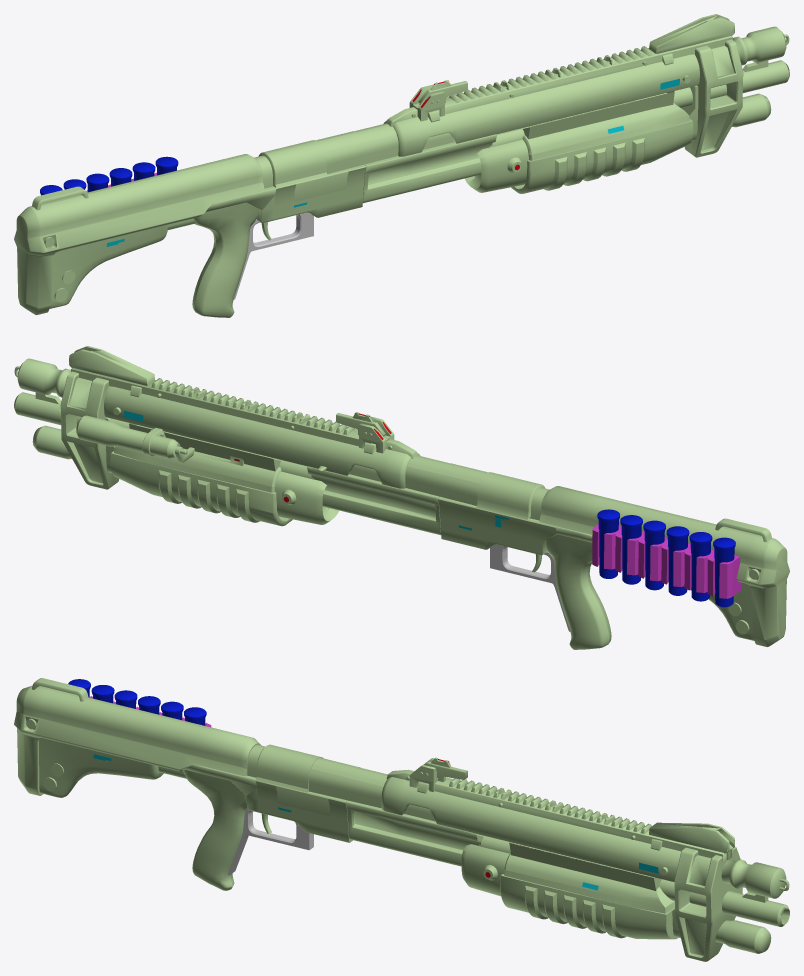
The model's file is M45_Rigged_BrashWhisper_3rdP.fbx.
The picture shows the model from 3 angles, top to bottom: view 1: azimuth 30°, elevation 25°; view 2: azimuth 150°, elevation 25°; view 3: azimuth 330°, elevation 25°; orthographic projection.
Visible parts, largest first — view 1: MainBody, Pump, ShellRackShells, TriggerGuard; view 2: MainBody, Pump, ShellRackShells, ShellRack, TriggerGuard; view 3: MainBody, Pump, ShellRackShells, TriggerGuard.
Boxes of the visible parts, x1,y1,x2,y2 form: MainBody: [14, 14, 789, 317]; Pump: [464, 91, 693, 193]; ShellRackShells: [40, 156, 178, 195]; TriggerGuard: [233, 212, 313, 299]; MainBody: [14, 346, 789, 649]; Pump: [76, 415, 339, 526]; ShellRackShells: [597, 509, 735, 607]; ShellRack: [592, 524, 741, 598]; TriggerGuard: [490, 544, 570, 631]; MainBody: [14, 678, 789, 961]; Pump: [461, 842, 677, 939]; ShellRackShells: [68, 679, 206, 725]; TriggerGuard: [227, 808, 313, 875].
Size of the model in its own units: 93.61 by 21.24 by 9.6.
